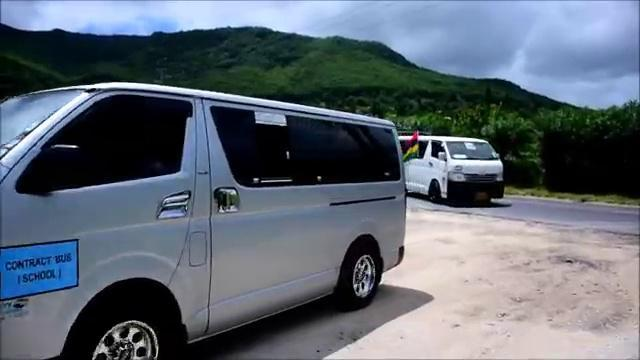Van: (0, 77, 419, 356), (402, 128, 511, 214)
